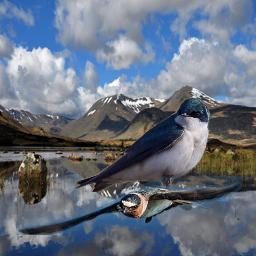Swallow: (16, 176, 242, 235), (74, 97, 210, 192)
